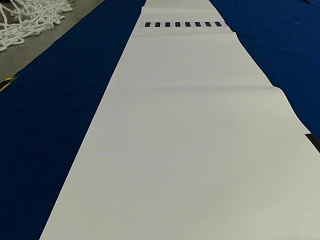crosswalk: (145, 20, 220, 27)
